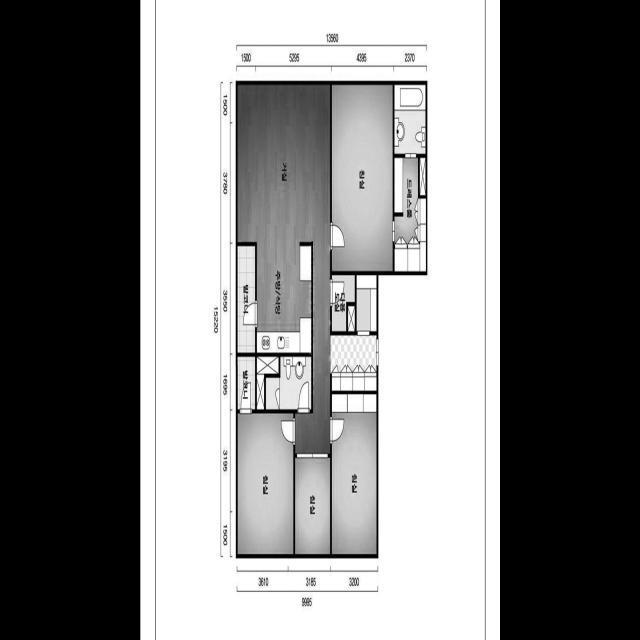background: (140, 0, 500, 640)
space_balconi: (237, 246, 255, 353), (237, 357, 255, 410)
space_bedroom: (332, 85, 392, 271), (237, 414, 293, 555), (332, 395, 376, 555), (295, 457, 330, 554)
space_dressroom: (394, 157, 426, 272)
space_front: (330, 275, 376, 391)
space_kitchen: (256, 242, 311, 353)
space_living_room: (237, 84, 330, 454)
space_multipurpose_space: (332, 275, 355, 331)
space_other: (257, 357, 279, 410), (419, 157, 425, 195), (347, 306, 355, 332)
space_toilet: (266, 356, 311, 409), (394, 85, 425, 154)
